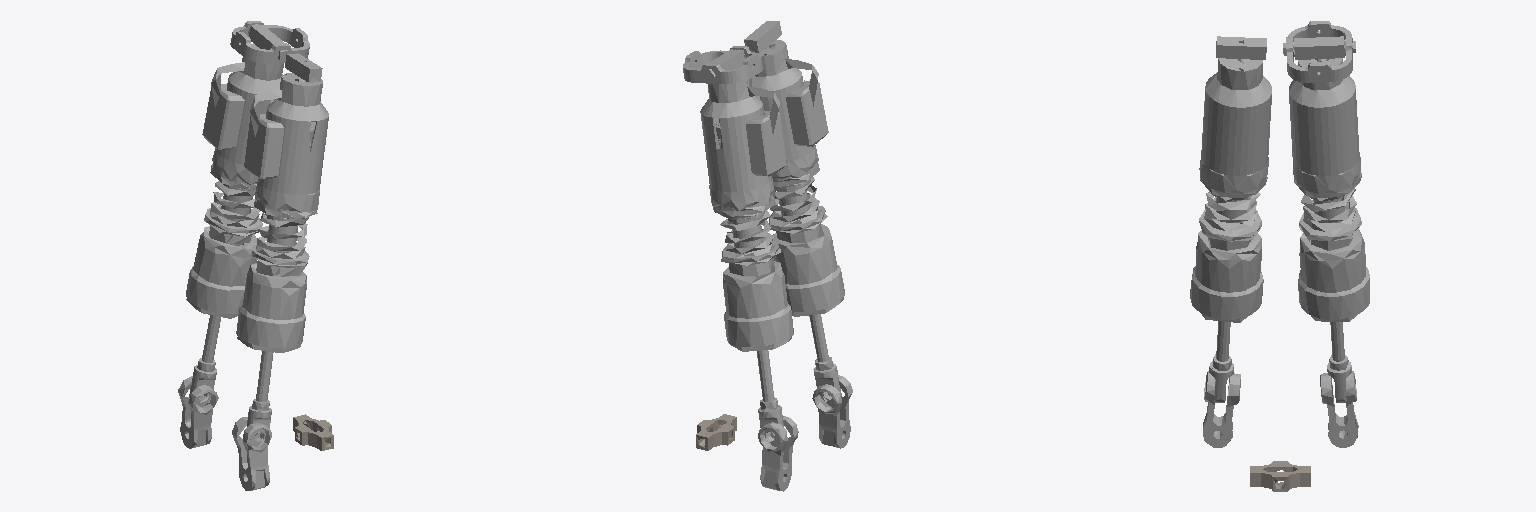
The robot description file, URDF, robot "LRAnkle":
<robot name="LRAnkle">
  <link name="LRAnkleBase_Link">
    <inertial>
      <origin xyz="0.0 0.0 0.0" rpy="0.0 0.0 0.0"/>
      <mass value="0.0"/>
      <inertia ixx="0.0" ixy="0.0" ixz="0.0" iyy="0.0" iyz="0.0" izz="0.0"/>
    </inertial>
  </link>
  <joint name="LRAnklePitch" type="revolute">
    <origin xyz="0.0 0.0 0.0" rpy="0.0 0.0 0.0"/>
    <axis xyz="0.0 1.0 0.0"/>
    <parent link="LRAnkleRoll_Link"/>
    <child link="LRAnklePitch_Link"/>
    <limit effort="200.0" lower="-0.8988445648" upper="0.7853981634" velocity="6.0"/>
  </joint>
  <link name="LRAnklePitch_Link">
    <inertial>
      <origin xyz="2.8493e-18 -1.3878e-16 0.0" rpy="0.0 0.0 0.0"/>
      <mass value="2.8252e-05"/>
      <inertia ixx="4.5912e-11" ixy="1.8118e-28" ixz="-1.4548e-27" iyy="6.6802e-11" iyz="5.3633e-27" izz="3.9725e-11"/>
    </inertial>
    <visual name="LRAnklePitch_Link_visual">
      <origin xyz="0.0 0.0 0.0" rpy="0.0 0.0 0.0"/>
      <geometry>
        <mesh filename="../meshes/stl/AnklePitch_Link.STL"/>
      </geometry>
      <material name="">
        <color rgba="0.79216 0.81961 0.93333 1.0"/>
      </material>
    </visual>
  </link>
  <joint name="LRAnkleRoll" type="revolute">
    <origin xyz="0.0 0.0 0.0" rpy="0.0 0.0 0.0"/>
    <axis xyz="1.0 0.0 0.0"/>
    <parent link="LRAnkleBase_Link"/>
    <child link="LRAnkleRoll_Link"/>
    <limit effort="200.0" lower="-0.9948376736" upper="0.9948376736" velocity="6.0"/>
  </joint>
  <link name="LRAnkleRoll_Link">
    <inertial>
      <origin xyz="-4.1608e-08 7.2923e-08 -5.2997e-09" rpy="0.0 0.0 0.0"/>
      <mass value="0.02493"/>
      <inertia ixx="2.9269e-06" ixy="-7.8377e-12" ixz="-1.0382e-12" iyy="1.1591e-06" iyz="1.5876e-12" izz="3.5758e-06"/>
    </inertial>
    <visual name="LRAnkleRoll_Link_visual">
      <origin xyz="0.0 0.0 0.0" rpy="0.0 0.0 0.0"/>
      <geometry>
        <mesh filename="../meshes/stl/AnkleRoll_Link.STL"/>
      </geometry>
      <material name="">
        <color rgba="0.64706 0.61961 0.58824 1.0"/>
      </material>
    </visual>
    <collision name="LRAnkleRoll_Link_collision">
      <origin xyz="0.0 0.0 0.0" rpy="0.0 0.0 0.0"/>
      <geometry>
        <mesh filename="../meshes/stl/AnkleRoll_Link.STL"/>
      </geometry>
    </collision>
  </link>
  <joint name="LRAnkle_Act1" type="prismatic">
    <origin xyz="0.0 0.0 0.26597" rpy="0.0 0.0 0.0"/>
    <axis xyz="0.0 0.0 1.0"/>
    <parent link="LRAnkle_B12_Link"/>
    <child link="LRAnkle_Act1_Link"/>
    <limit effort="571.0" lower="-0.0449" upper="0.0647" velocity="0.266"/>
  </joint>
  <link name="LRAnkle_Act1_Link">
    <inertial>
      <origin xyz="0.0 0.0 0.0" rpy="0.0 -0.0 0.0"/>
      <mass value="0.07896134655058572"/>
      <inertia ixx="0.0002465399999951976" ixy="2.2218334565684636e-09" ixz="-1.2305787261017842e-09" iyy="0.00024678" iyz="-6.276200589605272e-08" izz="1.0730000048024368e-06"/>
    </inertial>
    <visual name="LRAnkle_Act1_Link_visual">
      <origin xyz="0.0 0.0 0.0" rpy="0.0 3.14159 1.57079632679"/>
      <geometry>
        <mesh filename="../meshes/stl/Ankle_Act1_Link.STL"/>
      </geometry>
      <material name="">
        <color rgba="0.69804 0.69804 0.69804 1.0"/>
      </material>
    </visual>
    <collision name="LRAnkle_Act1_Link_collision">
      <origin xyz="0.0 0.0 0.0" rpy="0.0 3.14159 1.57079632679"/>
      <geometry>
        <mesh filename="../meshes/stl/Ankle_Act1_Link.STL"/>
      </geometry>
    </collision>
  </link>
  <joint name="LRAnkle_Act2" type="prismatic">
    <origin xyz="0.0 0.0 0.26597" rpy="0.0 0.0 0.0"/>
    <axis xyz="0.0 0.0 1.0"/>
    <parent link="LRAnkle_B22_Link"/>
    <child link="LRAnkle_Act2_Link"/>
    <limit effort="571.0" lower="-0.0449" upper="0.0647" velocity="0.266"/>
  </joint>
  <link name="LRAnkle_Act2_Link">
    <inertial>
      <origin xyz="0.0 0.0 0.0" rpy="0.0 -0.0 0.0"/>
      <mass value="0.07896134655058568"/>
      <inertia ixx="0.00024653999999529885" ixy="-2.1503334660041774e-09" ixz="-1.2114887257947331e-09" iyy="0.00024678" iyz="6.275800570632389e-08" izz="1.0730000047011228e-06"/>
    </inertial>
    <visual name="LRAnkle_Act2_Link_visual">
      <origin xyz="0.0 0.0 0.0" rpy="0.0 3.14159 0.0"/>
      <geometry>
        <mesh filename="../meshes/stl/Ankle_Act2_Link.STL"/>
      </geometry>
      <material name="">
        <color rgba="0.69804 0.69804 0.69804 1.0"/>
      </material>
    </visual>
    <collision name="LRAnkle_Act2_Link_collision">
      <origin xyz="0.0 0.0 0.0" rpy="0.0 3.14159 0.0"/>
      <geometry>
        <mesh filename="../meshes/stl/Ankle_Act2_Link.STL"/>
      </geometry>
    </collision>
  </link>
  <joint name="LRAnkle_B11" type="revolute">
    <origin xyz="-0.0223 0.025 0.29127" rpy="3.091 -0.174503 3.14159"/>
    <axis xyz="1.0 0.0 0.0"/>
    <parent link="LRAnkleBase_Link"/>
    <child link="LRAnkle_B11_Link"/>
    <limit effort="0.0" lower="0" upper="0" velocity="0.0"/>
  </joint>
  <link name="LRAnkle_B11_Link">
    <inertial>
      <origin xyz="-0.0026075 -1.6785e-12 0.0015126" rpy="0.0 0.0 0.0"/>
      <mass value="0.00654"/>
      <inertia ixx="1.5907e-06" ixy="3.9038e-14" ixz="8.7457e-09" iyy="1.8739e-06" iyz="8.1942e-15" izz="3.3241e-06"/>
    </inertial>
    <visual name="LRAnkle_B11_Link_visual">
      <origin xyz="0.0 0.0 0.0" rpy="0.0 0.0 0.0"/>
      <geometry>
        <mesh filename="../meshes/stl/Ankle_B11_Link.STL"/>
      </geometry>
      <material name="">
        <color rgba="0.69804 0.69804 0.69804 1.0"/>
      </material>
    </visual>
    <collision name="LRAnkle_B11_Link_collision">
      <origin xyz="0.0 0.0 0.0" rpy="0.0 0.0 0.0"/>
      <geometry>
        <mesh filename="../meshes/stl/Ankle_B11_Link.STL"/>
      </geometry>
    </collision>
  </link>
  <joint name="LRAnkle_B12" type="revolute">
    <origin xyz="0.0 0.0 0.0" rpy="0.0 -0.0060102 0.0"/>
    <axis xyz="0.0 1.0 0.0"/>
    <parent link="LRAnkle_B11_Link"/>
    <child link="LRAnkle_B12_Link"/>
    <limit effort="0.0" lower="0" upper="0" velocity="0.0"/>
  </joint>
  <link name="LRAnkle_B12_Link">
    <inertial>
      <origin xyz="0.0 0.0 0.0" rpy="0.0 -0.0 0.0"/>
      <mass value="0.626756605161674"/>
      <inertia ixx="0.0024658002179549095" ixy="-7.781387113609205e-08" ixz="4.106487105614771e-05" iyy="0.0024841" iyz="4.2541020648759203e-07" izz="0.0001561197820450909"/>
    </inertial>
    <visual name="LRAnkle_B12_Link_visual">
      <origin xyz="0.0 0.0 0.0" rpy="0.0 3.14159 0.0"/>
      <geometry>
        <mesh filename="../meshes/stl/Ankle_B12_Link.STL"/>
      </geometry>
      <material name="">
        <color rgba="0.69804 0.69804 0.69804 1.0"/>
      </material>
    </visual>
    <collision name="LRAnkle_B12_Link_collision">
      <origin xyz="0.0 0.0 0.0" rpy="0.0 3.14159 0.0"/>
      <geometry>
        <mesh filename="../meshes/stl/Ankle_B12_Link.STL"/>
      </geometry>
    </collision>
  </link>
  <joint name="LRAnkle_B21" type="revolute">
    <origin xyz="-0.0223 -0.025 0.29127" rpy="-3.09098 -0.174503 3.14159"/>
    <axis xyz="1.0 0.0 0.0"/>
    <parent link="LRAnkleBase_Link"/>
    <child link="LRAnkle_B21_Link"/>
    <limit effort="0.0" lower="0" upper="0" velocity="0.0"/>
  </joint>
  <link name="LRAnkle_B21_Link">
    <inertial>
      <origin xyz="0.0 0.0 0.0" rpy="0.0 -0.0 0.0"/>
      <mass value="0.006540000004287366"/>
      <inertia ixx="1.5907000464272066e-06" ixy="-3.904598539503503e-14" ixz="8.750299732424617e-09" iyy="1.8739e-06" iyz="5.503903612047694e-15" izz="3.324099953572794e-06"/>
    </inertial>
    <visual name="LRAnkle_B21_Link_visual">
      <origin xyz="0.0 0.0 0.0" rpy="0.0 3.14159 0.0"/>
      <geometry>
        <mesh filename="../meshes/stl/Ankle_B21_Link.STL"/>
      </geometry>
      <material name="">
        <color rgba="0.69804 0.69804 0.69804 1.0"/>
      </material>
    </visual>
    <collision name="LRAnkle_B21_Link_collision">
      <origin xyz="0.0 0.0 0.0" rpy="0.0 3.14159 0.0"/>
      <geometry>
        <mesh filename="../meshes/stl/Ankle_B21_Link.STL"/>
      </geometry>
    </collision>
  </link>
  <joint name="LRAnkle_B22" type="revolute">
    <origin xyz="0.0 0.0 0.0" rpy="0.0 -0.0060102 0.0"/>
    <axis xyz="0.0 1.0 0.0"/>
    <parent link="LRAnkle_B21_Link"/>
    <child link="LRAnkle_B22_Link"/>
    <limit effort="0.0" lower="0" upper="0" velocity="0.0"/>
  </joint>
  <link name="LRAnkle_B22_Link">
    <inertial>
      <origin xyz="0.0 0.0 0.0" rpy="0.0 -0.0 0.0"/>
      <mass value="0.6267566051616451"/>
      <inertia ixx="0.0024658002179549095" ixy="-7.617188419175961e-08" ixz="4.106487105614771e-05" iyy="0.0024841" iyz="4.204902021304149e-07" izz="0.0001561197820450909"/>
    </inertial>
    <visual name="LRAnkle_B22_Link_visual">
      <origin xyz="0.0 0.0 0.0" rpy="0.0 3.14159 0.0"/>
      <geometry>
        <mesh filename="../meshes/stl/Ankle_B22_Link.STL"/>
      </geometry>
      <material name="">
        <color rgba="0.69804 0.69804 0.69804 1.0"/>
      </material>
    </visual>
    <collision name="LRAnkle_B22_Link_collision">
      <origin xyz="0.0 0.0 0.0" rpy="0.0 3.14159 0.0"/>
      <geometry>
        <mesh filename="../meshes/stl/Ankle_B22_Link.STL"/>
      </geometry>
    </collision>
  </link>
  <joint name="LRAnkle_E11" type="revolute">
    <origin xyz="-0.07 0.04 0.0" rpy="0.05066 0.0 0.0"/>
    <axis xyz="1.0 0.0 0.0"/>
    <parent link="LRAnklePitch_Link"/>
    <child link="LRAnkle_E11_Link"/>
    <limit effort="0.0" lower="0" upper="0" velocity="0.0"/>
  </joint>
  <link name="LRAnkle_E11_Link">
    <inertial>
      <origin xyz="-3.2627e-08 -0.00061479 0.011938" rpy="0.0 0.0 0.0"/>
      <mass value="0.025"/>
      <inertia ixx="5.6966e-06" ixy="2.0874e-13" ixz="-6.1394e-13" iyy="5.4356e-06" iyz="2.0391e-07" izz="1.4865e-06"/>
    </inertial>
    <visual name="LRAnkle_E11_Link_visual">
      <origin xyz="0.0 0.0 0.0" rpy="0.0 0.0 0.0"/>
      <geometry>
        <mesh filename="../meshes/stl/Ankle_E11_Link.STL"/>
      </geometry>
      <material name="">
        <color rgba="0.69804 0.69804 0.69804 1.0"/>
      </material>
    </visual>
    <collision name="LRAnkle_E11_Link_collision">
      <origin xyz="0.0 0.0 0.0" rpy="0.0 0.0 0.0"/>
      <geometry>
        <mesh filename="../meshes/stl/Ankle_E11_Link.STL"/>
      </geometry>
    </collision>
  </link>
  <joint name="LRAnkle_E21" type="revolute">
    <origin xyz="-0.07 -0.04 0.0" rpy="-0.05066 0.0 0.0"/>
    <axis xyz="1.0 0.0 0.0"/>
    <parent link="LRAnklePitch_Link"/>
    <child link="LRAnkle_E21_Link"/>
    <limit effort="0.0" lower="0" upper="0" velocity="0.0"/>
  </joint>
  <link name="LRAnkle_E21_Link">
    <inertial>
      <origin xyz="-3.2627e-08 0.00061479 0.011938" rpy="0.0 0.0 0.0"/>
      <mass value="0.025"/>
      <inertia ixx="5.6966e-06" ixy="-2.0874e-13" ixz="-6.1394e-13" iyy="5.4356e-06" iyz="-2.0391e-07" izz="1.4865e-06"/>
    </inertial>
    <visual name="LRAnkle_E21_Link_visual">
      <origin xyz="0.0 0.0 0.0" rpy="0.0 0.0 0.0"/>
      <geometry>
        <mesh filename="../meshes/stl/Ankle_E21_Link.STL"/>
      </geometry>
      <material name="">
        <color rgba="0.69804 0.69804 0.69804 1.0"/>
      </material>
    </visual>
    <collision name="LRAnkle_E21_Link_collision">
      <origin xyz="0.0 0.0 0.0" rpy="0.0 0.0 0.0"/>
      <geometry>
        <mesh filename="../meshes/stl/Ankle_E21_Link.STL"/>
      </geometry>
    </collision>
  </link>
</robot>

--- What the picture shows (computed from the rendered views, not written in the file) ---
Views: 3 orthographic renders of the robot side by side, from view 1: azimuth 30°, elevation 25°; view 2: azimuth 150°, elevation 25°; view 3: azimuth 270°, elevation 25°.
Robot: LRAnkle — 11 links, 10 joints (8 revolute, 2 prismatic); root link LRAnkleBase_Link; default pose: all joints at 0.
Links seen in each view (by area): view 1: LRAnkle_B22_Link, LRAnkle_B12_Link, LRAnkle_B11_Link, LRAnkle_E21_Link, LRAnkle_E11_Link, LRAnkle_Act2_Link, LRAnkle_Act1_Link, LRAnkleRoll_Link; view 2: LRAnkle_B12_Link, LRAnkle_B22_Link, LRAnkle_E11_Link, LRAnkle_B11_Link, LRAnkle_E21_Link, LRAnkle_Act1_Link, LRAnkle_Act2_Link, LRAnkleRoll_Link; view 3: LRAnkle_B22_Link, LRAnkle_B12_Link, LRAnkle_B11_Link, LRAnkle_E11_Link, LRAnkle_E21_Link, LRAnkleRoll_Link, LRAnkle_Act2_Link, LRAnkle_Act1_Link.
Link boxes in pixels (x1,y1,x2,y2): LRAnkle_B22_Link: (236, 53, 328, 352); LRAnkle_B12_Link: (186, 25, 283, 318); LRAnkle_B11_Link: (230, 21, 309, 63); LRAnkle_E21_Link: (232, 417, 271, 490); LRAnkle_E11_Link: (178, 376, 218, 448); LRAnkle_Act2_Link: (247, 351, 273, 446); LRAnkle_Act1_Link: (189, 315, 220, 406); LRAnkleRoll_Link: (293, 414, 333, 450); LRAnkle_B12_Link: (700, 49, 793, 351); LRAnkle_B22_Link: (744, 21, 844, 316); LRAnkle_E11_Link: (758, 416, 798, 491); LRAnkle_B11_Link: (683, 46, 762, 84); LRAnkle_E21_Link: (812, 375, 852, 448); LRAnkle_Act1_Link: (757, 350, 783, 446); LRAnkle_Act2_Link: (809, 314, 841, 405); LRAnkleRoll_Link: (696, 414, 736, 450); LRAnkle_B22_Link: (1190, 36, 1271, 322); LRAnkle_B12_Link: (1289, 36, 1369, 321); LRAnkle_B11_Link: (1283, 21, 1355, 82); LRAnkle_E11_Link: (1320, 371, 1358, 447); LRAnkle_E21_Link: (1203, 371, 1240, 447); LRAnkleRoll_Link: (1250, 461, 1310, 491); LRAnkle_Act2_Link: (1209, 321, 1233, 402); LRAnkle_Act1_Link: (1327, 322, 1351, 402).
Size in the robot's own frame: 0.0922 by 0.1155 by 0.3108 metres.
Meshes: 10 distinct files referenced, 9 mesh visuals loaded (9 binary STL); not drawn: 1 (reference not matched to a file when rendering).